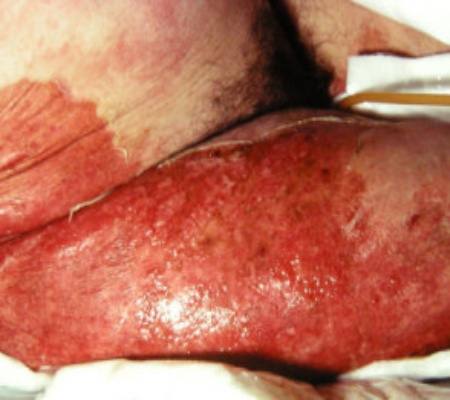SJS-TEN: (0, 0, 450, 389)
